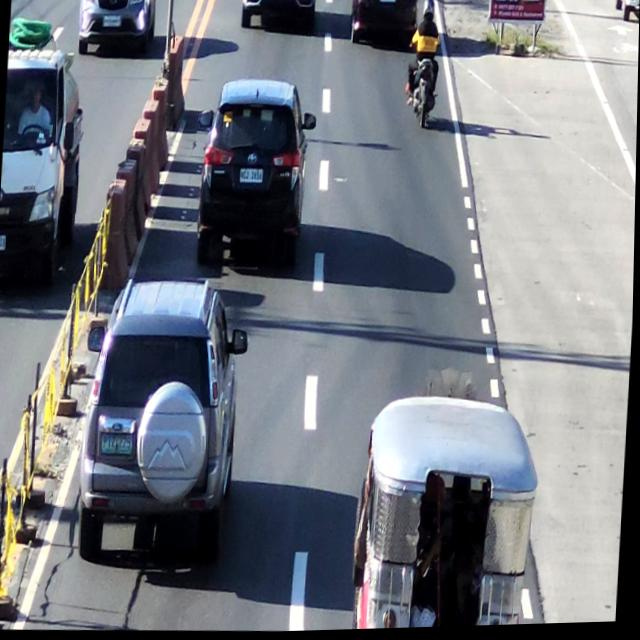Car: (88, 277, 242, 556), (203, 77, 309, 268), (348, 0, 417, 47), (241, 0, 315, 25)
Jeep: (354, 392, 540, 632)
License-Plate: (98, 425, 137, 458), (238, 166, 265, 186), (379, 0, 397, 9)
Motorcycle: (407, 1, 444, 124)
